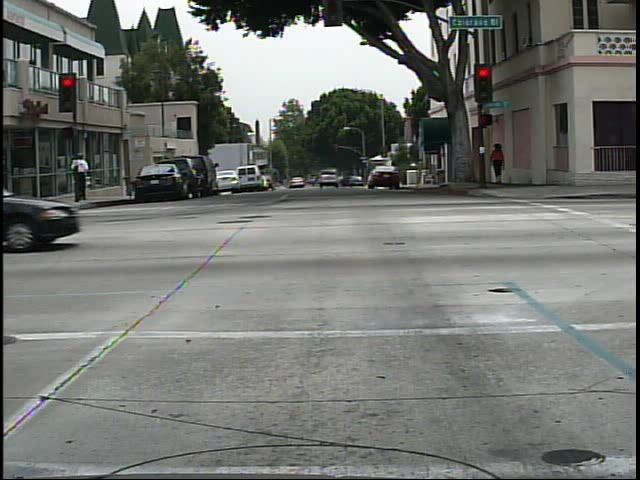person: (66, 147, 95, 206), (486, 137, 515, 191)
